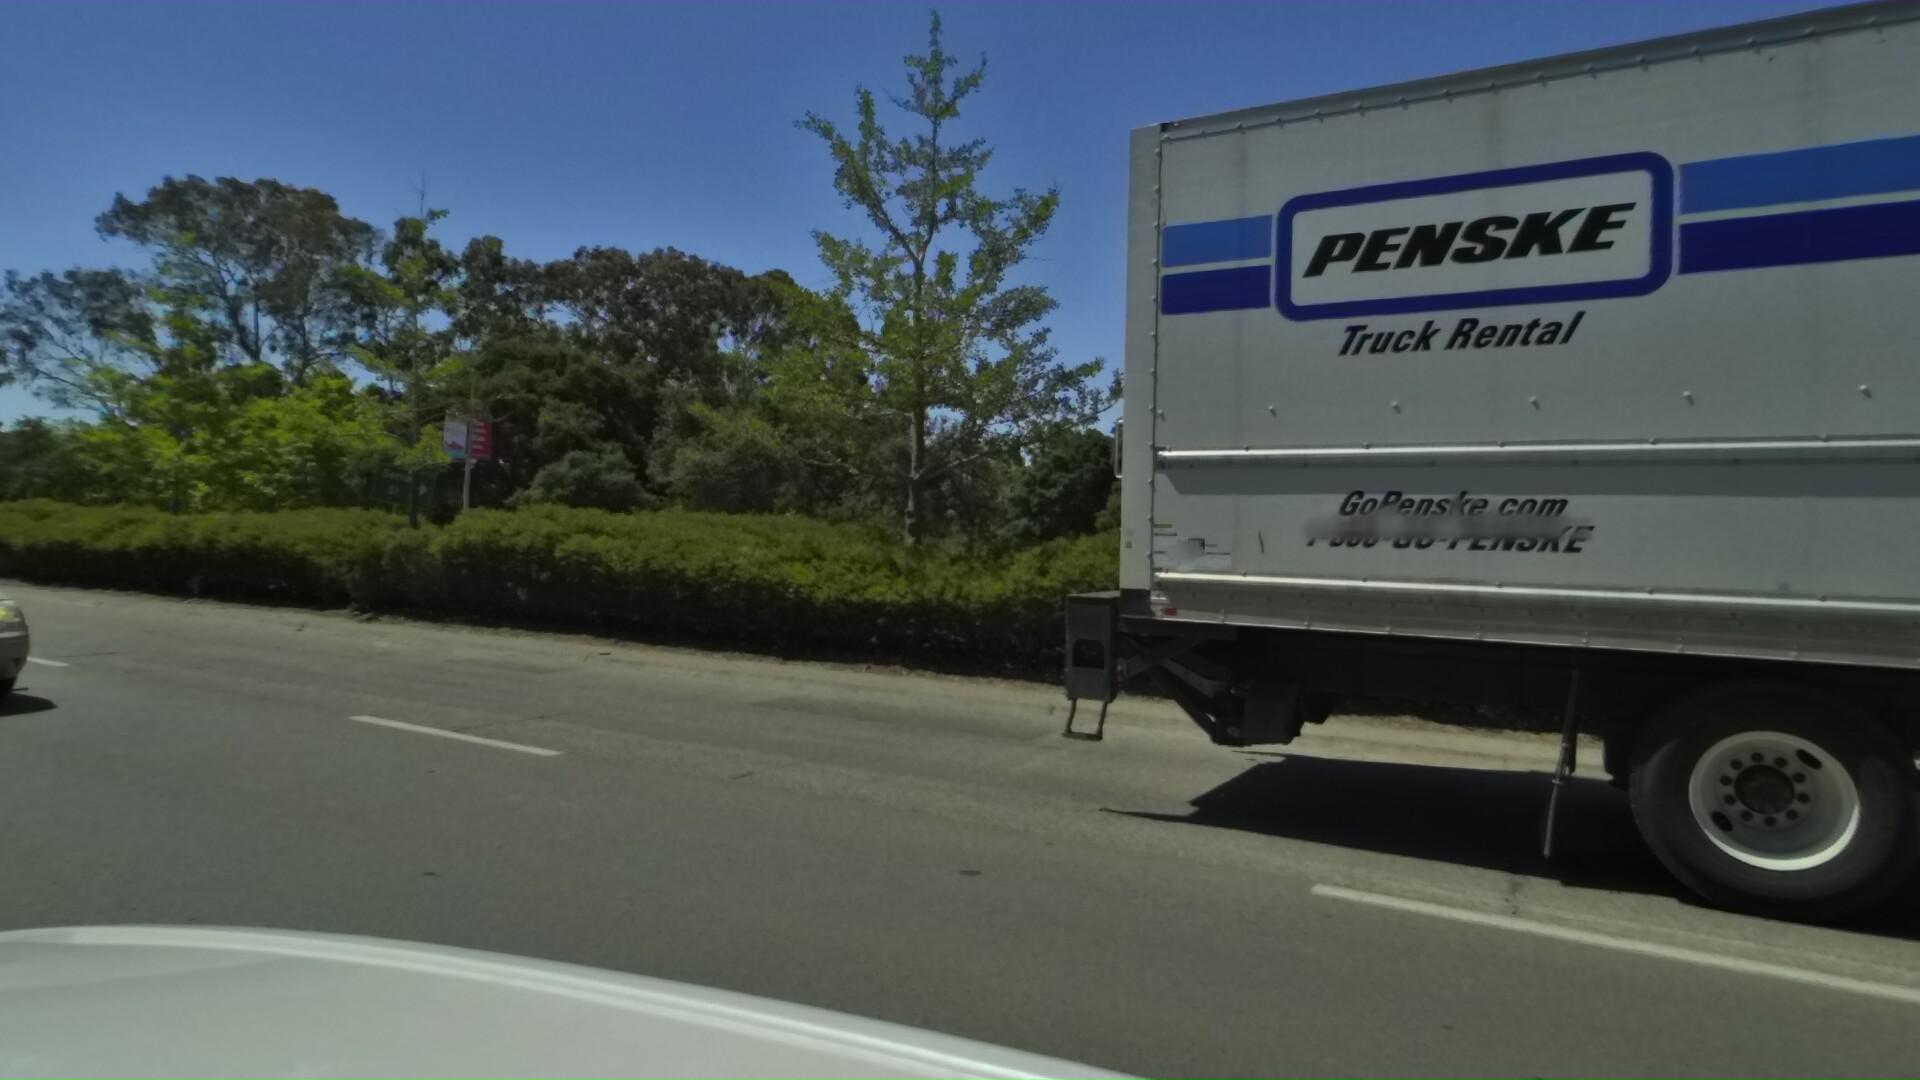car: (0, 485, 74, 749)
truck: (1055, 0, 1920, 1080)
